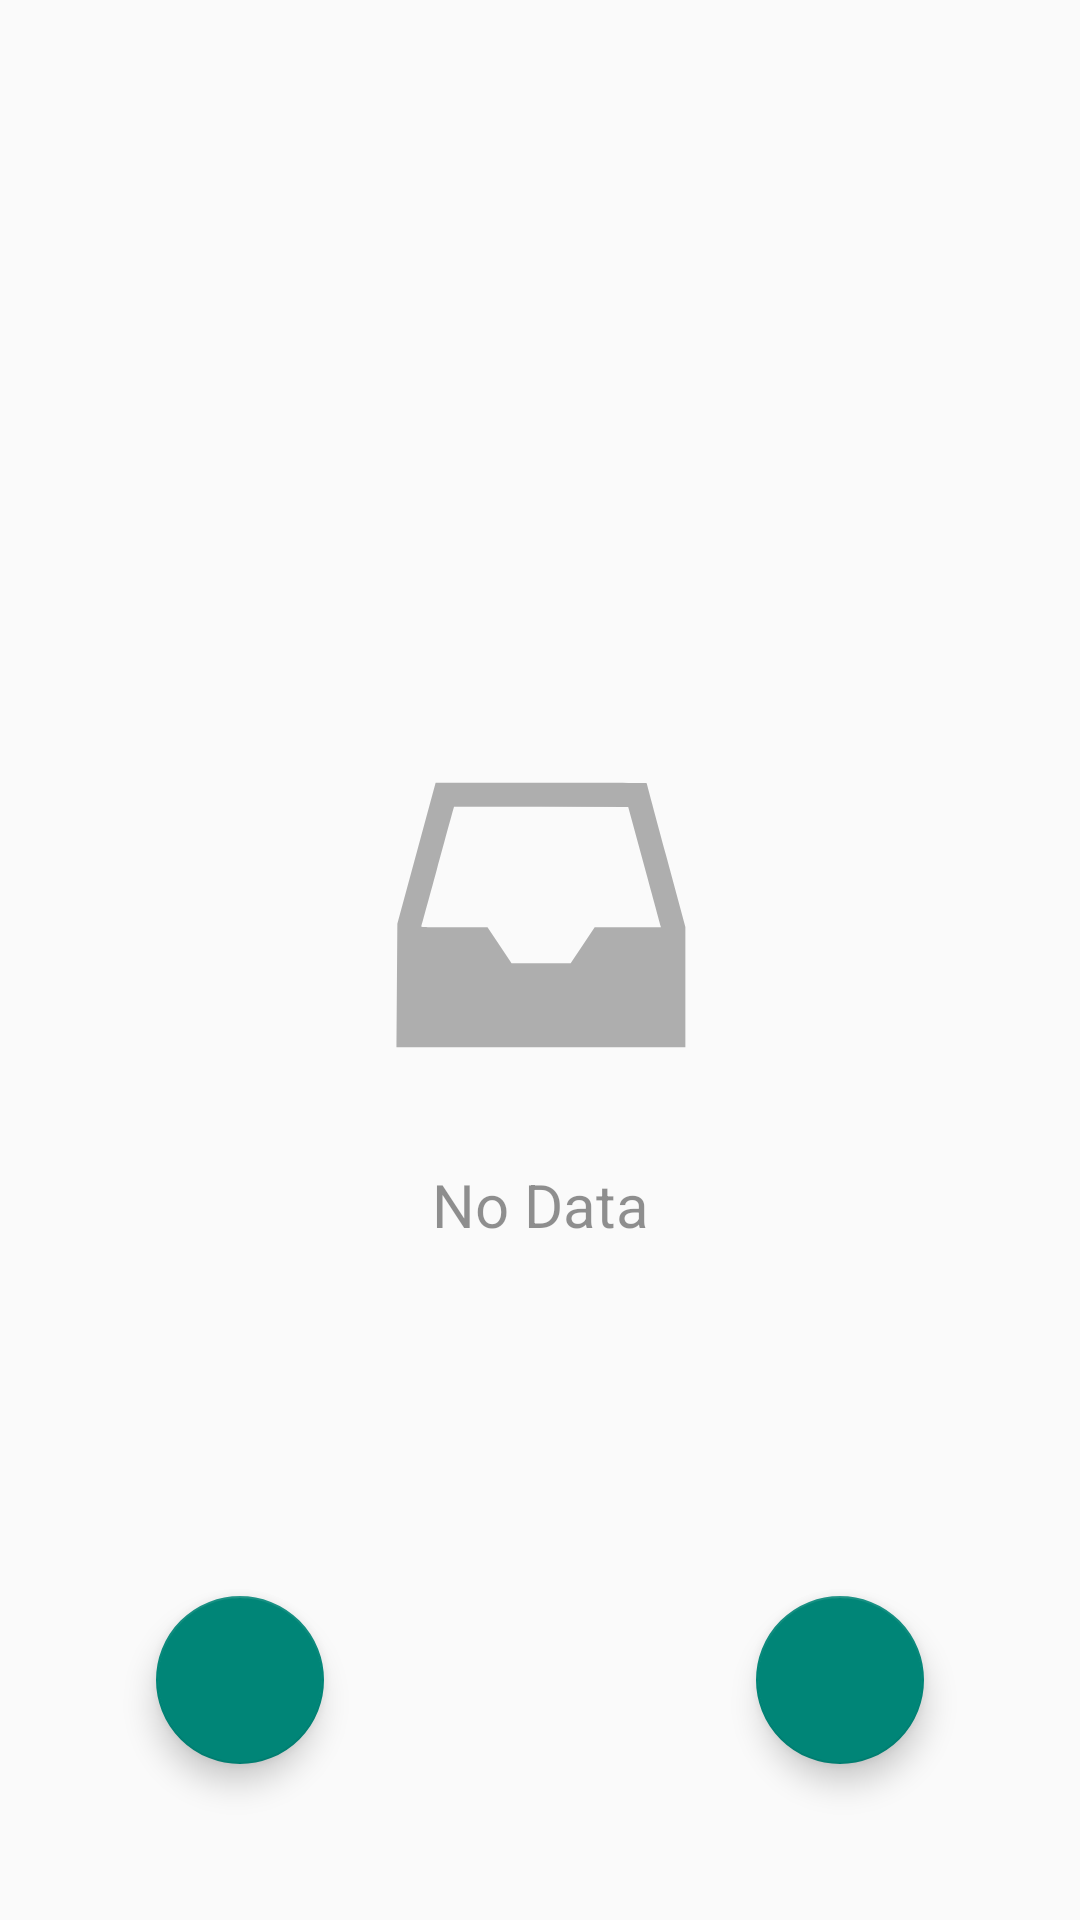

Screen size 1080×1920. Icon name, then its center in pixels as (x,y):
empty: (541,915)
